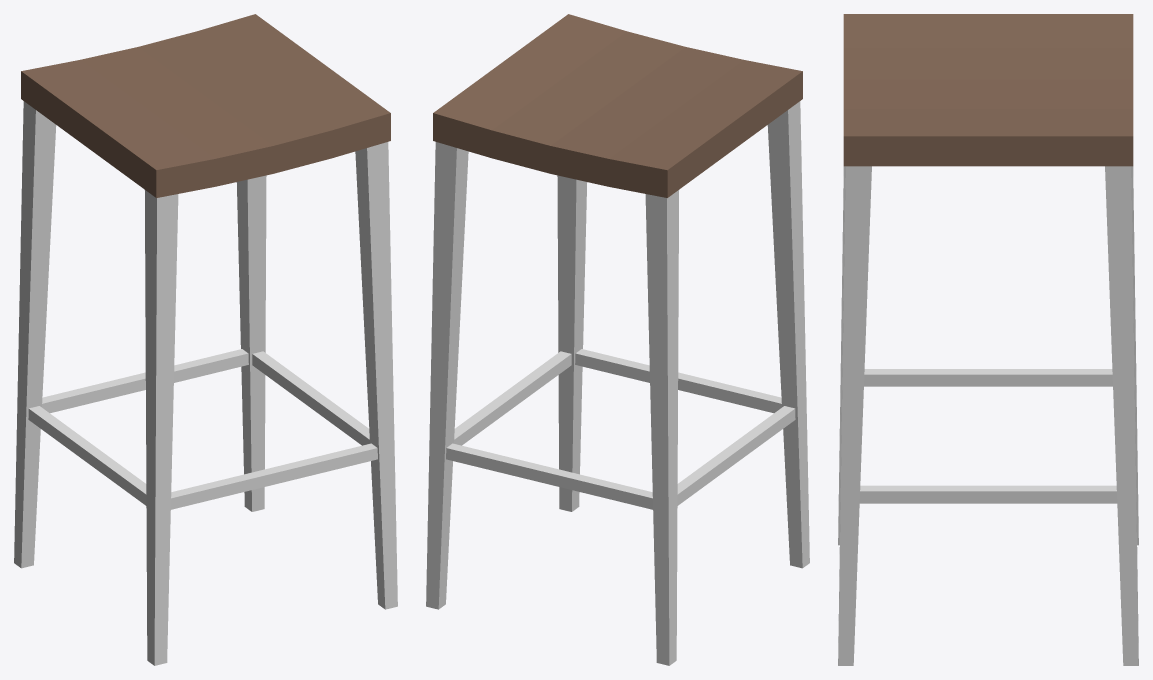
Rendered from Chair_01_C1.fbx.
3 renders of one model, left to right at view 1: azimuth 30°, elevation 25°; view 2: azimuth 150°, elevation 25°; view 3: azimuth 270°, elevation 25°, orthographic. The views are drawn at different scales.
Visible parts, largest first — view 1: Chair_01_C1; view 2: Chair_01_C1; view 3: Chair_01_C1.
Part boxes in pixels (x1,y1,x2,y2): Chair_01_C1: (14,14,397,665); Chair_01_C1: (426,14,809,665); Chair_01_C1: (838,14,1138,665).
Size of the model in its own units: 33.75 by 65.29 by 33.75.
